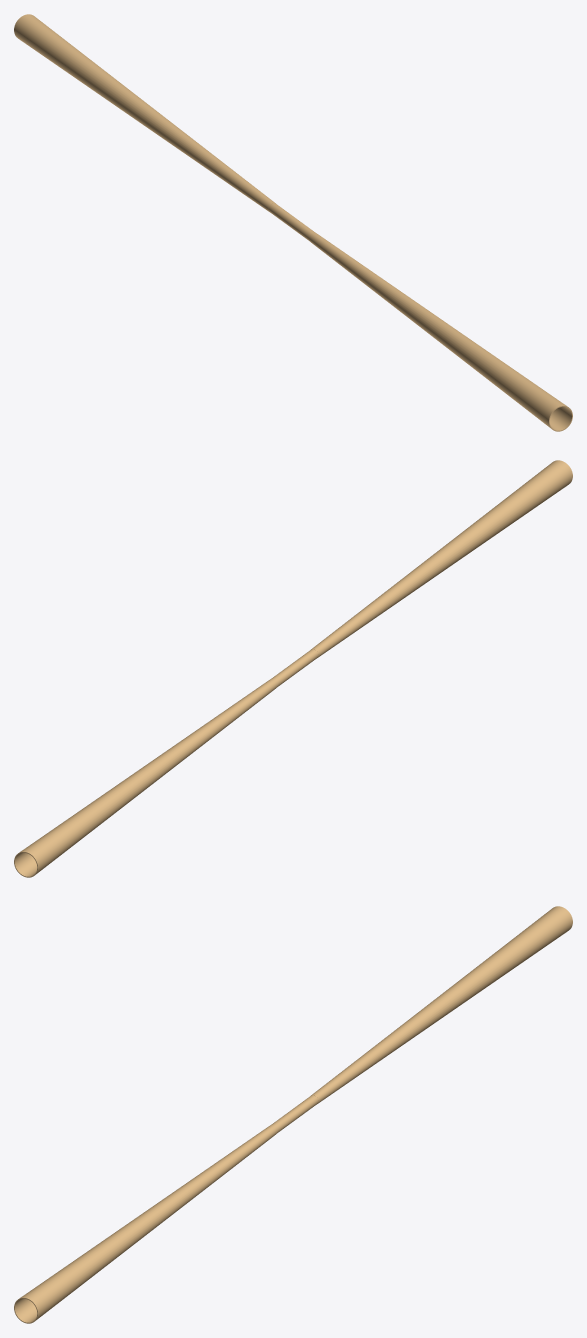
File: CLD_o4_v05.gltf
The picture shows the model from 3 angles, top to bottom: view 1: azimuth 30°, elevation 25°; view 2: azimuth 150°, elevation 25°; view 3: azimuth 330°, elevation 25°; orthographic projection.
Parts seen in each view (by area): view 1: tube_AlBeMet162_wall_6, tube_AlBeMet162_wall2_7; view 2: tube_AlBeMet162_wall2_7, tube_AlBeMet162_wall_6; view 3: tube_AlBeMet162_wall_6, tube_AlBeMet162_wall2_7.
Part boxes in pixels (<box>): tube_AlBeMet162_wall_6: <box>309,232,572,431</box>; tube_AlBeMet162_wall2_7: <box>14,14,275,211</box>; tube_AlBeMet162_wall2_7: <box>14,678,277,877</box>; tube_AlBeMet162_wall_6: <box>311,460,572,657</box>; tube_AlBeMet162_wall_6: <box>14,1124,277,1323</box>; tube_AlBeMet162_wall2_7: <box>311,906,572,1103</box>.
Size of the model in its own units: 6.18 by 6.15 by 238.
